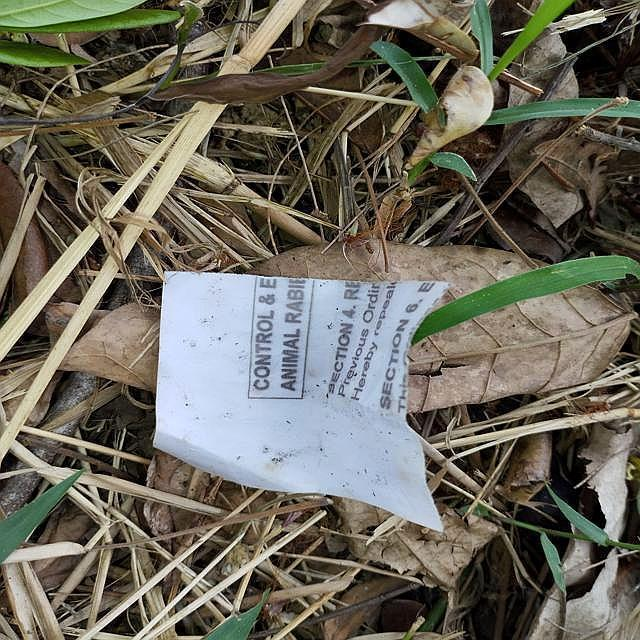Biodegradable: (154, 271, 456, 525)
